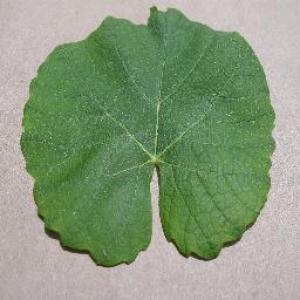Folha: (18, 5, 276, 267)
